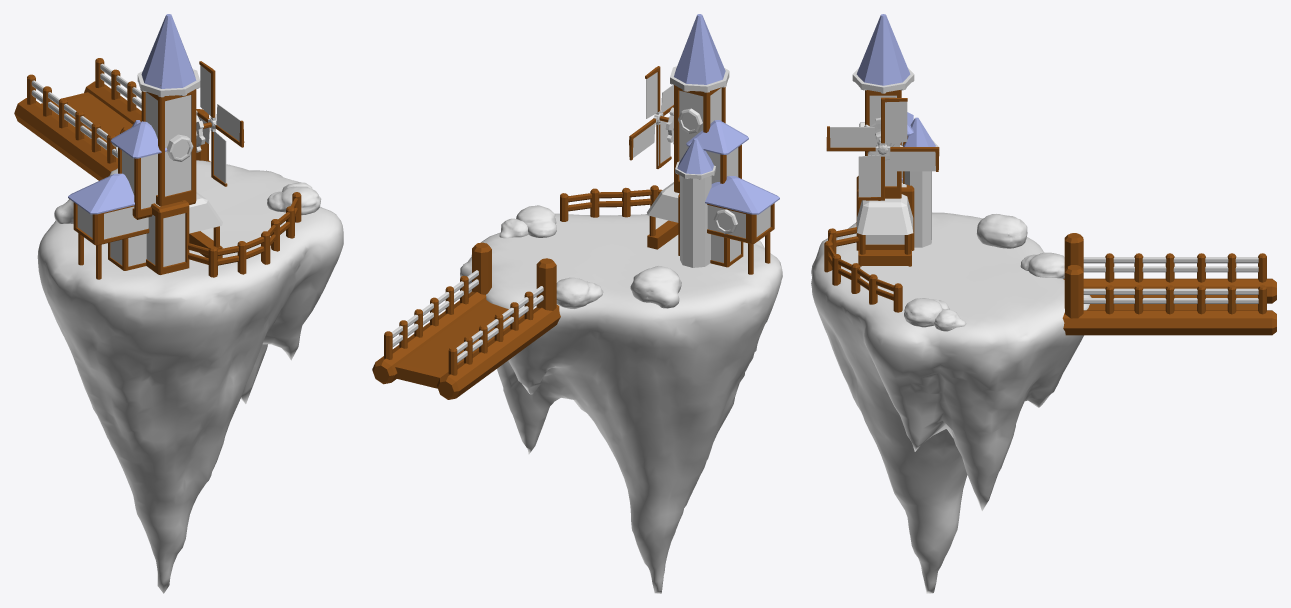
File: the_better_siland.fbx
3 renders of one model, left to right at view 1: azimuth 30°, elevation 25°; view 2: azimuth 150°, elevation 25°; view 3: azimuth 270°, elevation 25°, orthographic. The views are drawn at different scales.
Parts seen in each view (by area): view 1: Cone.002, Cube.008, Cube, Cube.001, Cylinder.005, Icosphere; view 2: Cone.002, Cube.008, Cube, Cube.001, Cylinder.005, Icosphere.003, Icosphere.001, Icosphere; view 3: Cone.002, Cube, Cube.008, Cube.001, Cylinder.005, Icosphere.003, Icosphere, Icosphere.001.
Part boxes in pixels (x1=…): Cone.002: x1=37, y1=160, x2=343, y2=593; Cube.008: x1=68, y1=14, x2=222, y2=279; Cube: x1=14, y1=58, x2=210, y2=180; Cube.001: x1=196, y1=61, x2=244, y2=186; Cylinder.005: x1=188, y1=192, x2=301, y2=277; Icosphere: x1=267, y1=186, x2=321, y2=214; Cone.002: x1=460, y1=213, x2=782, y2=593; Cube.008: x1=647, y1=14, x2=779, y2=274; Cube: x1=372, y1=242, x2=560, y2=399; Cube.001: x1=629, y1=66, x2=673, y2=168; Cylinder.005: x1=560, y1=185, x2=662, y2=221; Icosphere.003: x1=630, y1=266, x2=681, y2=308; Icosphere.001: x1=556, y1=277, x2=603, y2=308; Icosphere: x1=516, y1=205, x2=556, y2=237; Cone.002: x1=811, y1=212, x2=1091, y2=593; Cube: x1=1062, y1=233, x2=1276, y2=335; Cube.008: x1=852, y1=14, x2=938, y2=266; Cube.001: x1=826, y1=97, x2=939, y2=200; Cylinder.005: x1=824, y1=227, x2=902, y2=312; Icosphere.003: x1=976, y1=214, x2=1027, y2=248; Icosphere: x1=904, y1=298, x2=949, y2=327; Icosphere.001: x1=1020, y1=252, x2=1064, y2=278.
Bounding box in the file's own units: 2112 × 4333 × 3205.
